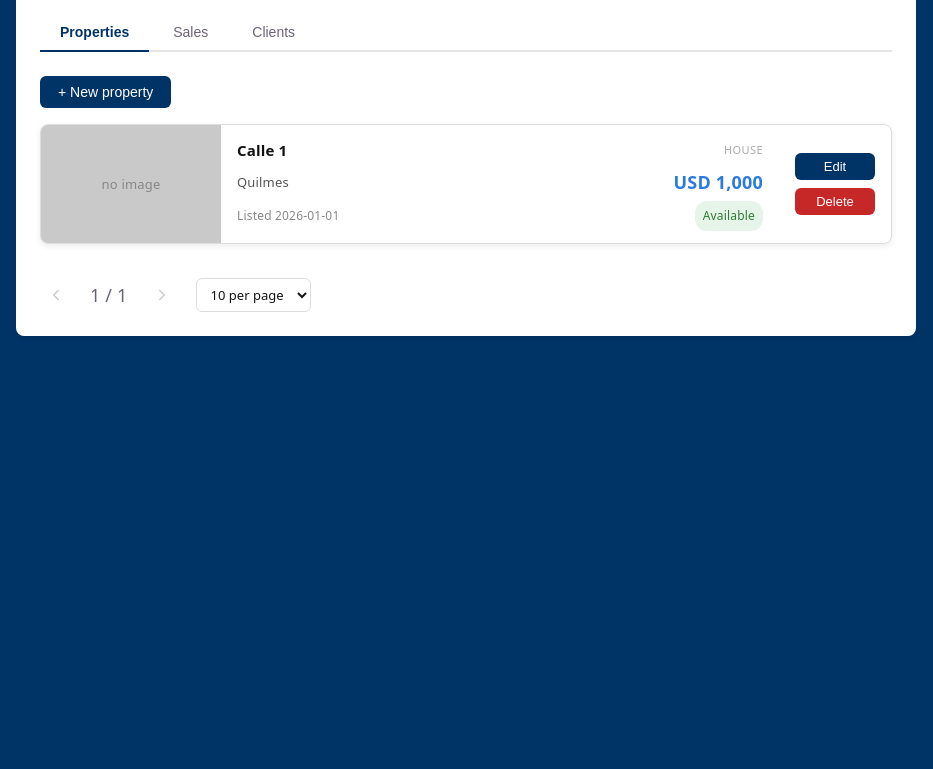
Test: AgencyDashboardPage › cancels the form without adding a property
Step 1. Click the button with test id "btn-new-property" → (106, 92), box [40,76,171,108]
(page scrolled)
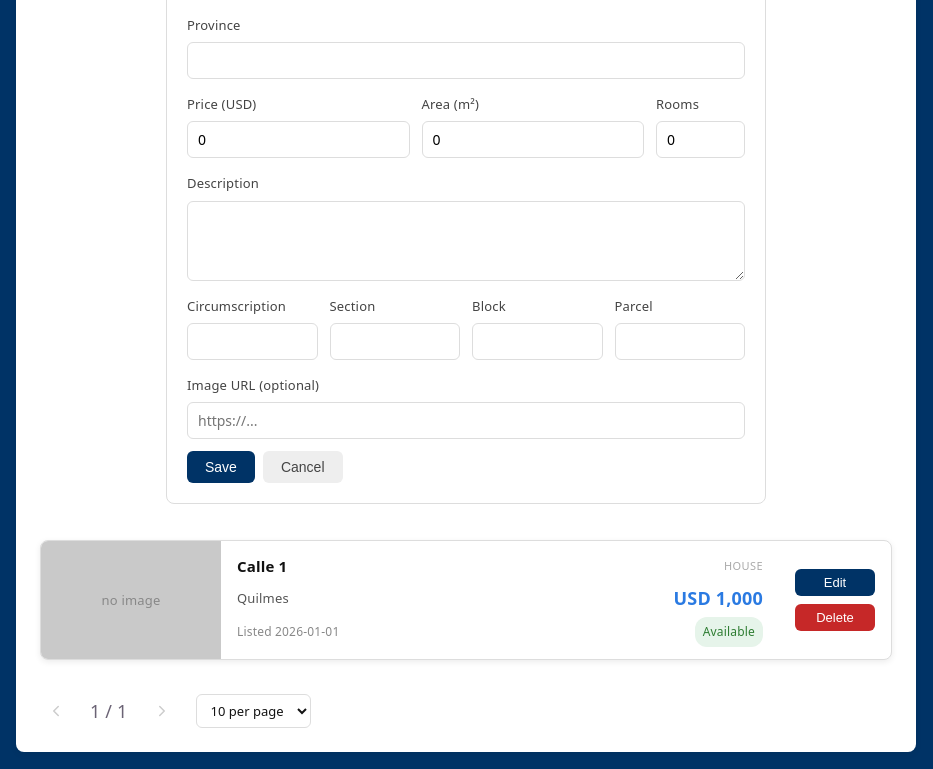
Step 2. Click the button with test id "btn-cancel-property" → (303, 467), box [263,451,342,483]
(page scrolled)
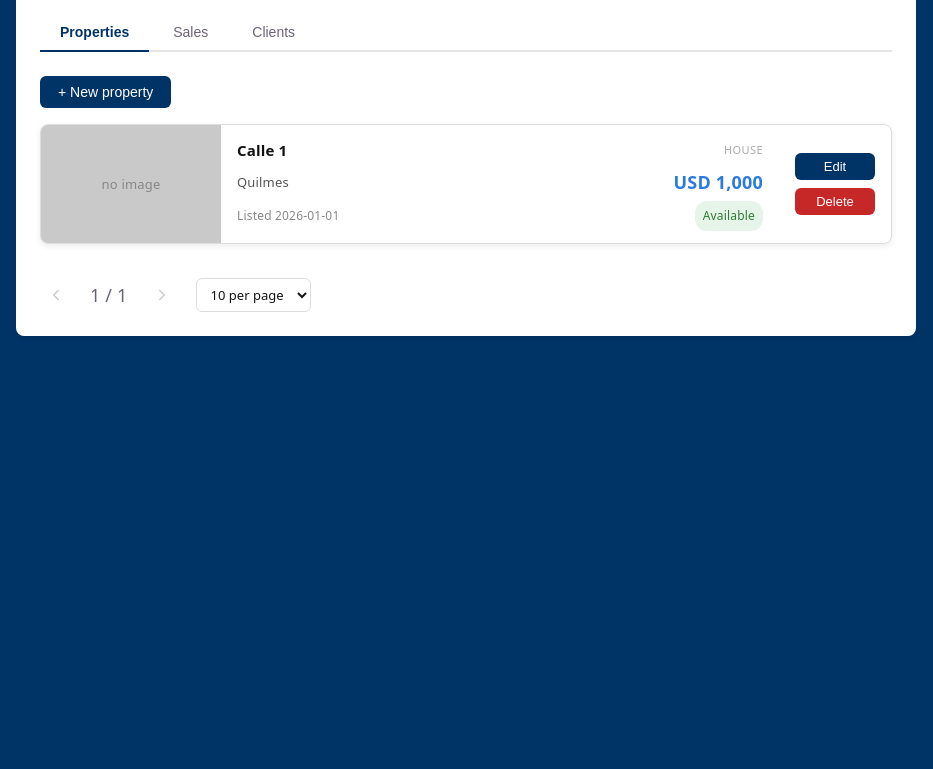
Expected: the button with test id "btn-new-property" is shown, [40,76,171,108]
